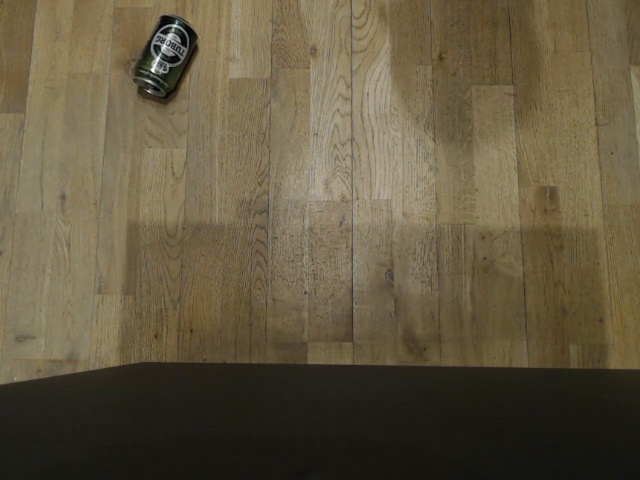beer: (131, 11, 200, 101)
